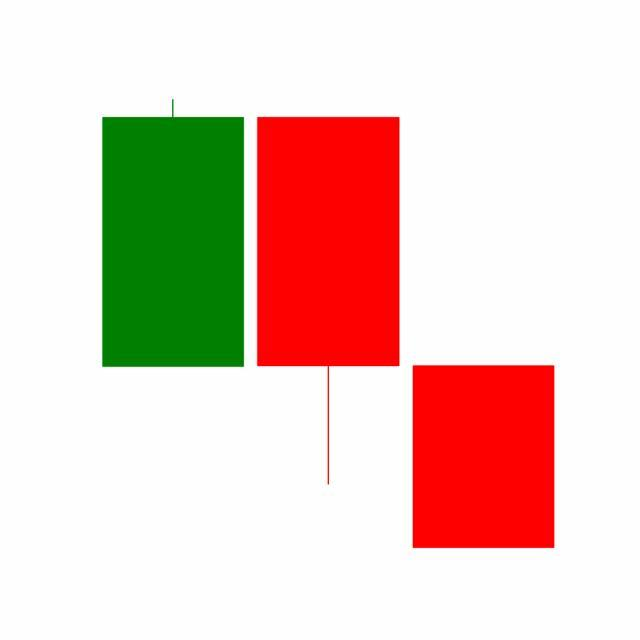Marubozu: (406, 364, 562, 551)
